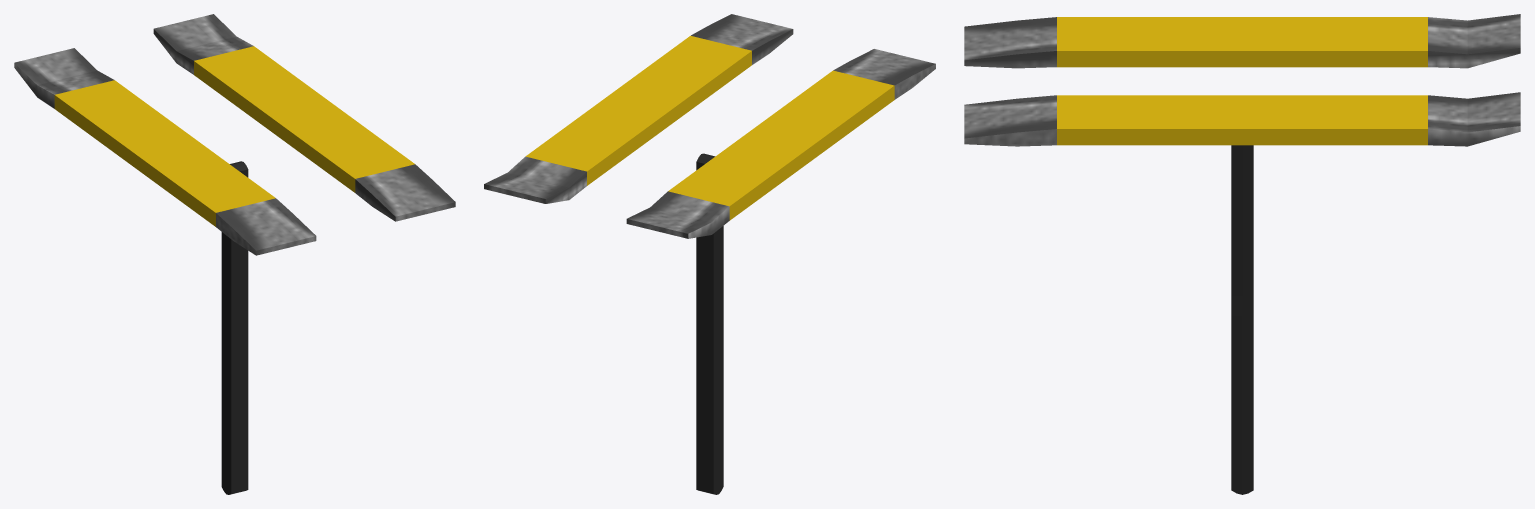
Rendered from car_lift.fbx.
3 views of the same model, side by side, from view 1: azimuth 30°, elevation 25°; view 2: azimuth 150°, elevation 25°; view 3: azimuth 270°, elevation 25° (orthographic). The views are drawn at different scales.
Visible parts, largest first — view 1: LiftPlatform, Arm; view 2: LiftPlatform, Arm; view 3: LiftPlatform, Arm.
Boxes of the visible parts, box(x1,y1,x2,y2) form: LiftPlatform: box(14, 14, 455, 255); Arm: box(221, 161, 248, 494); LiftPlatform: box(484, 14, 935, 238); Arm: box(696, 153, 723, 494); LiftPlatform: box(964, 14, 1520, 146); Arm: box(1231, 145, 1253, 494).
Bounding box in the file's own units: 200 × 350 × 420.
